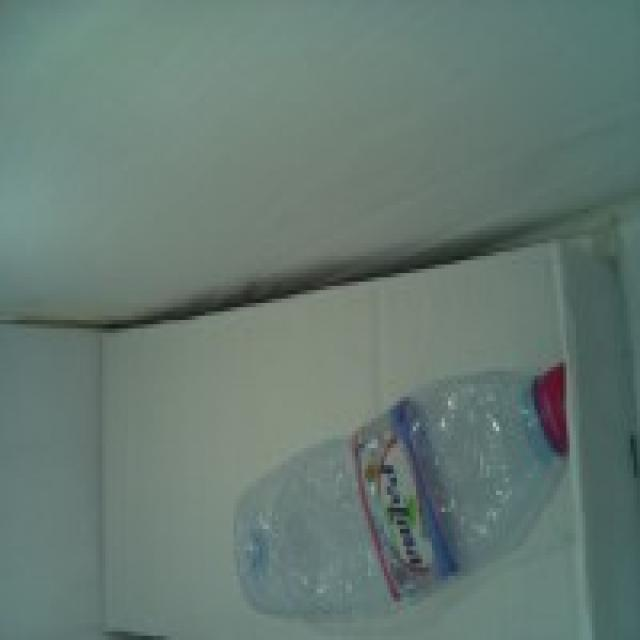plastic: (231, 363, 575, 638)
